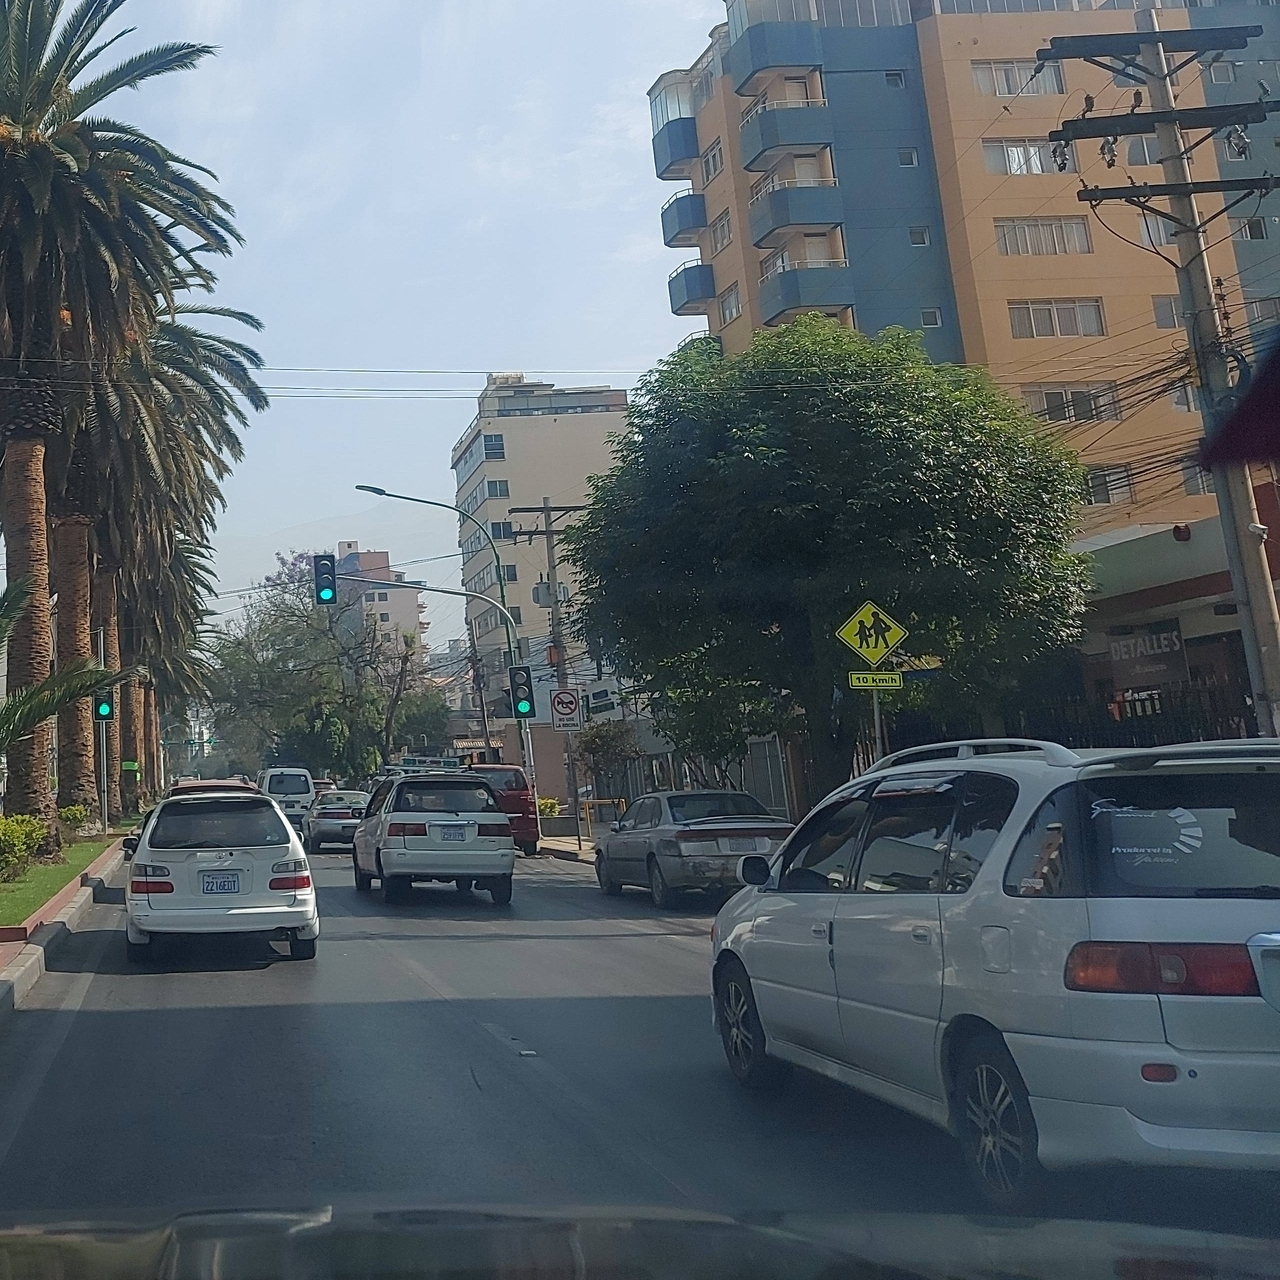zona-escolar: (835, 599, 910, 667)
